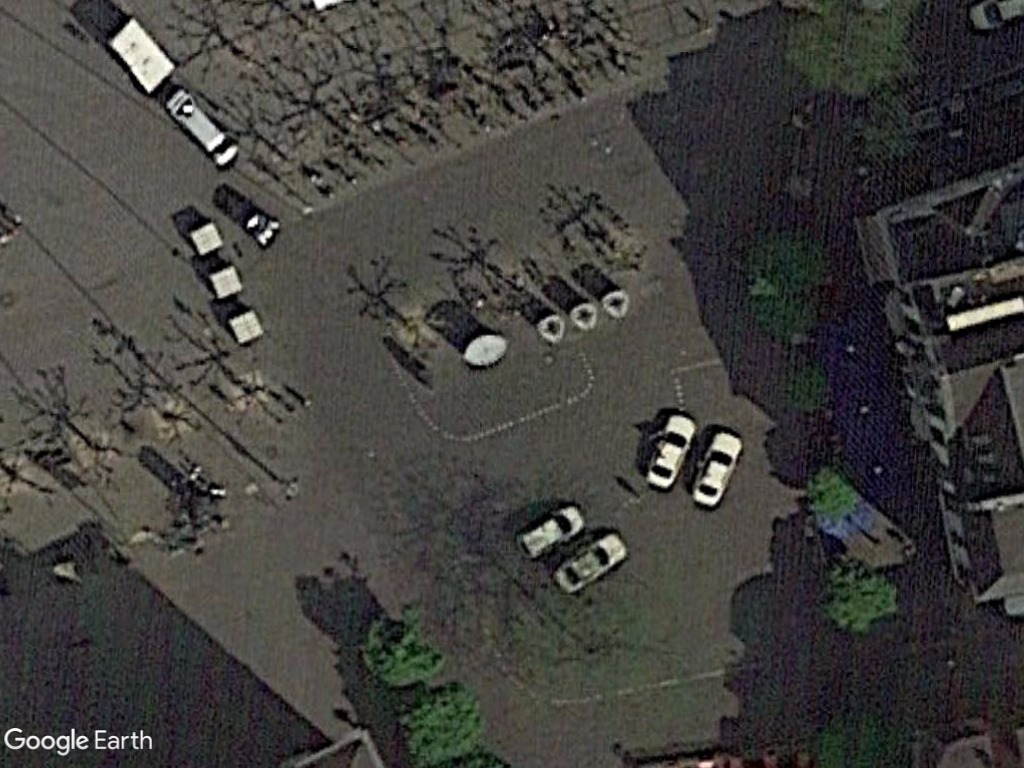car: (637, 406, 701, 496), (550, 528, 633, 593), (511, 498, 592, 560), (690, 426, 748, 512)
